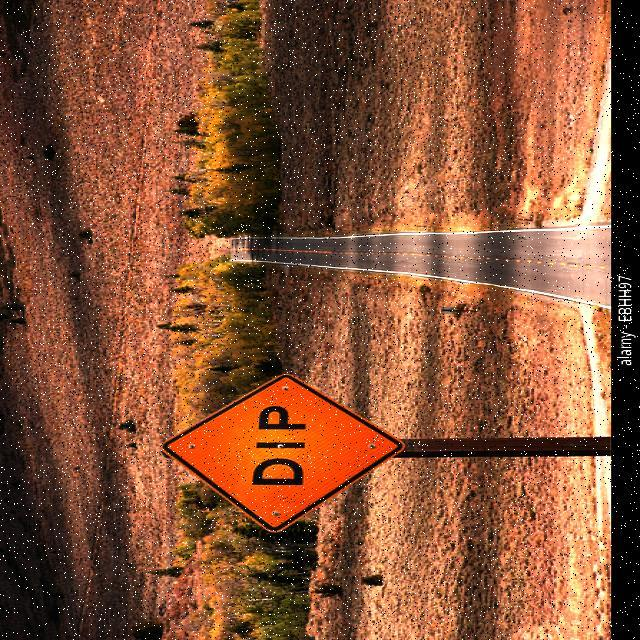Traffic sign: (162, 368, 404, 537)
